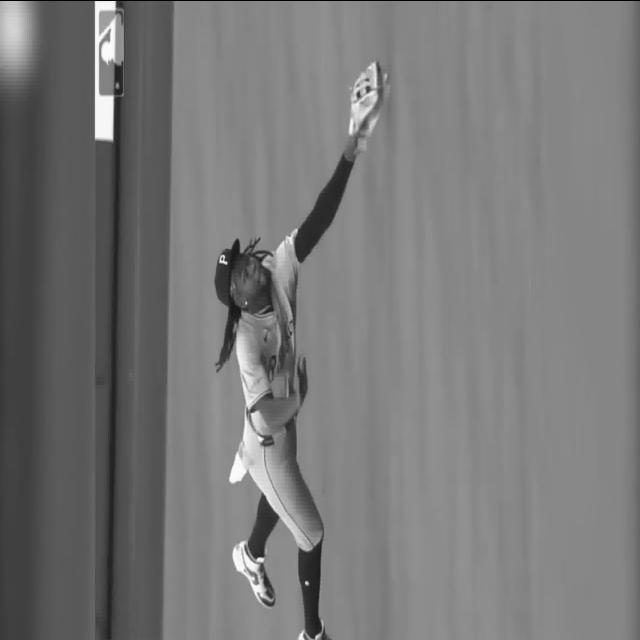baseball_glove: (348, 61, 393, 138)
shoe: (229, 546, 280, 612)
